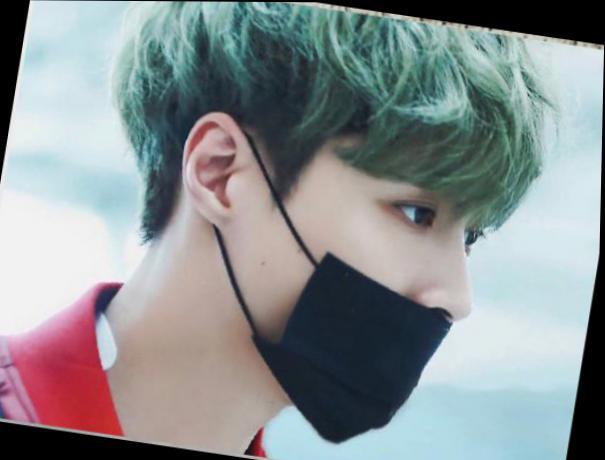WRONG: (252, 88, 518, 460)
